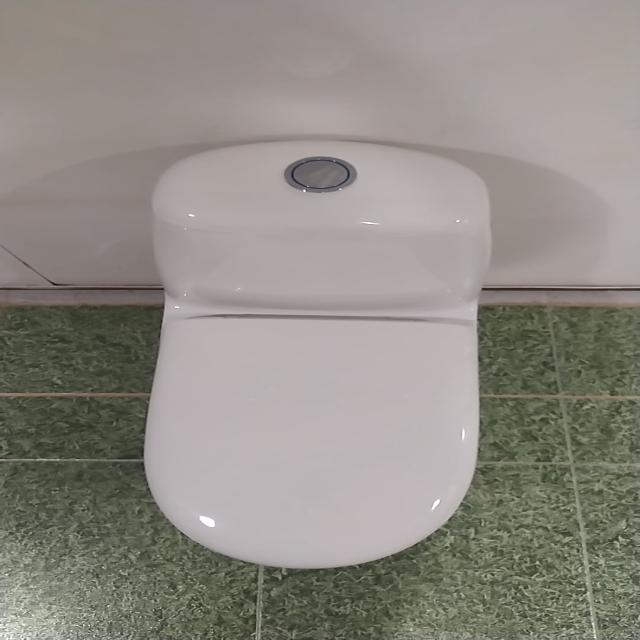toilet: (133, 132, 501, 575)
